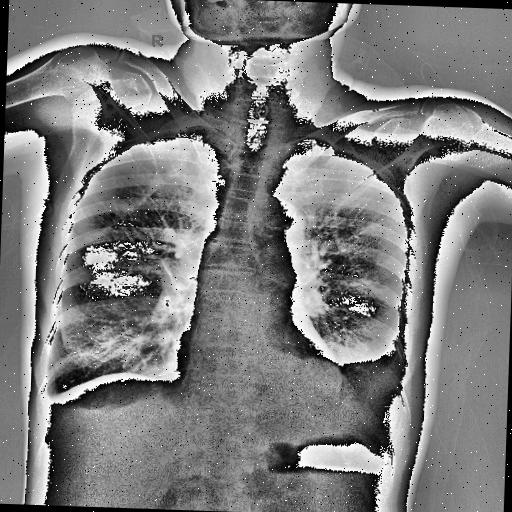0- Aortic enlargement: (258, 198, 306, 269)
10- Pleural effusion: (268, 318, 404, 412), (306, 338, 408, 406), (332, 316, 408, 406), (40, 382, 189, 424), (38, 380, 66, 410), (37, 386, 62, 404)
11- Pleural thickening: (37, 386, 62, 404)
